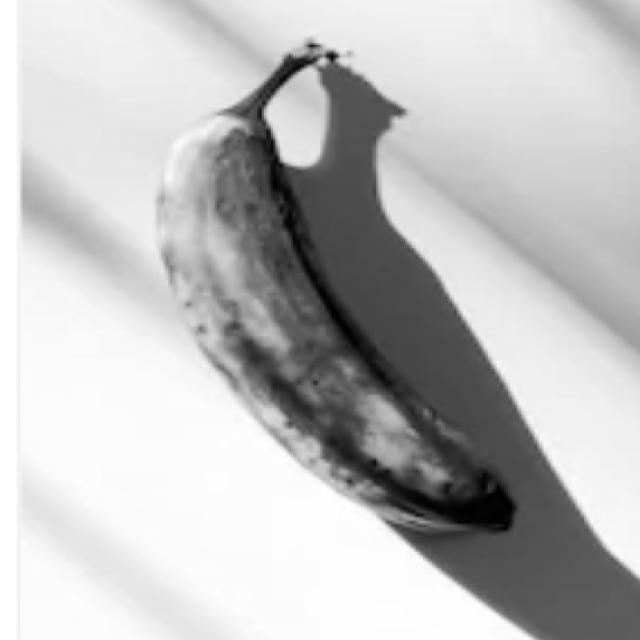Rotten: (147, 29, 545, 562)
